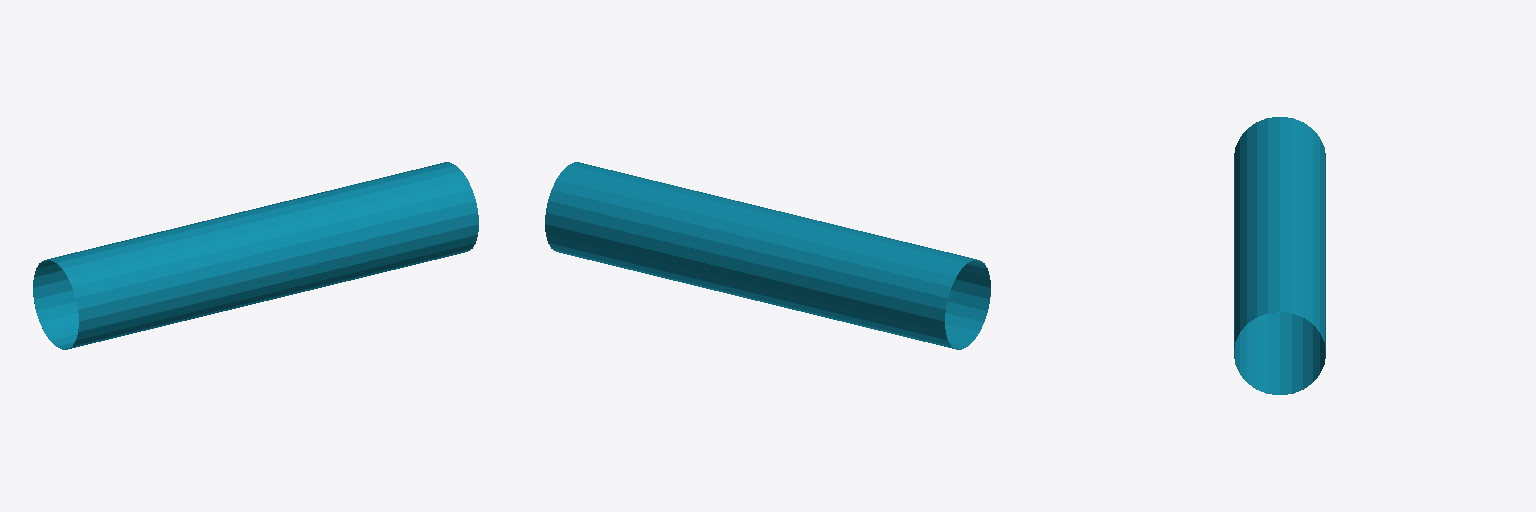
3 views of the same model, side by side, from view 1: azimuth 30°, elevation 25°; view 2: azimuth 150°, elevation 25°; view 3: azimuth 270°, elevation 25° (orthographic).
Parts seen in each view (by area): view 1: Loft001; view 2: Loft001; view 3: Loft001.
Part boxes in pixels (bbox=[...]): Loft001: bbox=[33, 162, 478, 349]; Loft001: bbox=[545, 162, 990, 349]; Loft001: bbox=[1234, 117, 1325, 394].
Bounding box in the file's own units: 100 × 20.02 × 20.02.